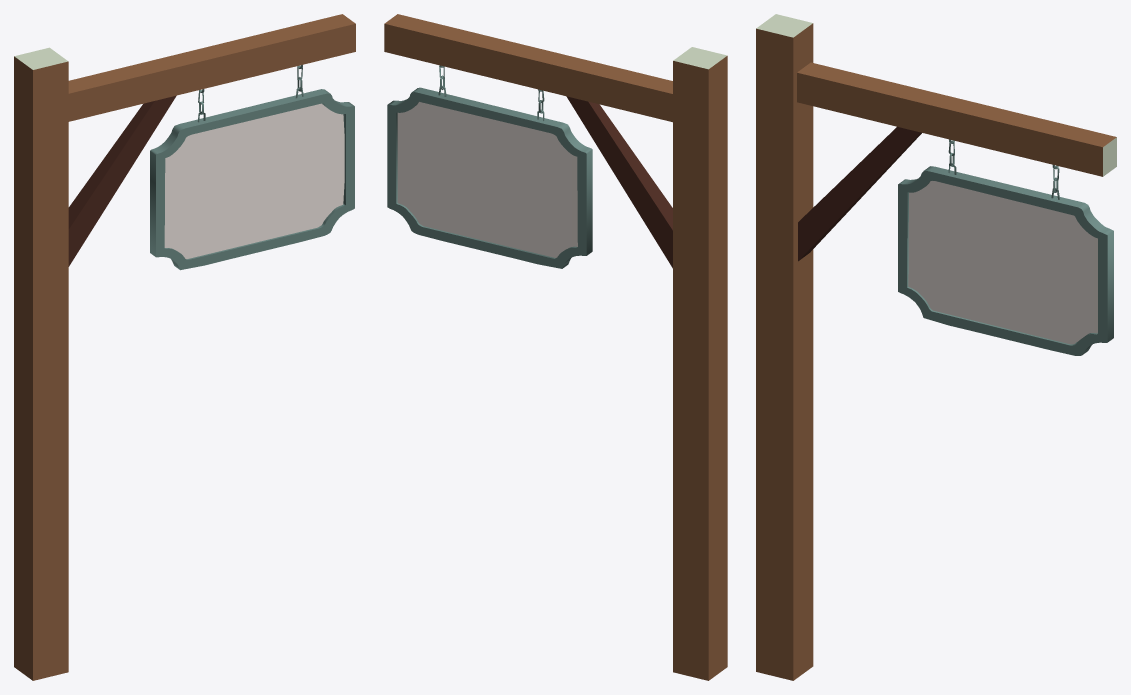
The model's file is SM_Signboard.fbx.
The picture shows the model from 3 angles, left to right: view 1: azimuth 30°, elevation 25°; view 2: azimuth 150°, elevation 25°; view 3: azimuth 330°, elevation 25°; orthographic projection. The views are drawn at different scales.
Visible parts, largest first — view 1: SM_Signboard; view 2: SM_Signboard; view 3: SM_Signboard.
Part boxes in pixels (left/top/right/bottom): SM_Signboard: left=14, top=14, right=355, bottom=680; SM_Signboard: left=384, top=14, right=727, bottom=680; SM_Signboard: left=756, top=14, right=1116, bottom=680.
Bounding box in the file's own units: 129 × 230 × 12.89.
